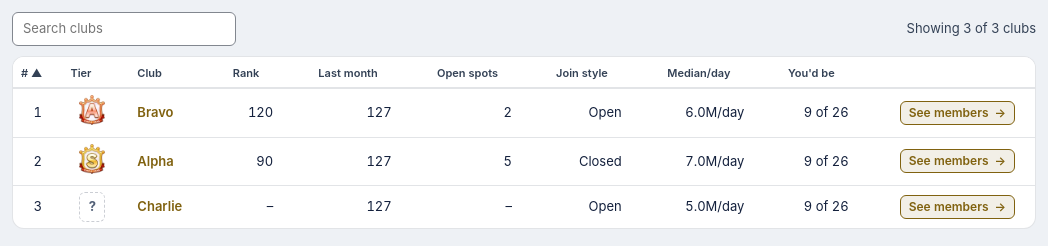
Test: ResultsTable › searches by name
In the search field named "Search clubs by name": coordinates (124, 29) [12,12,236,46], type "ar"
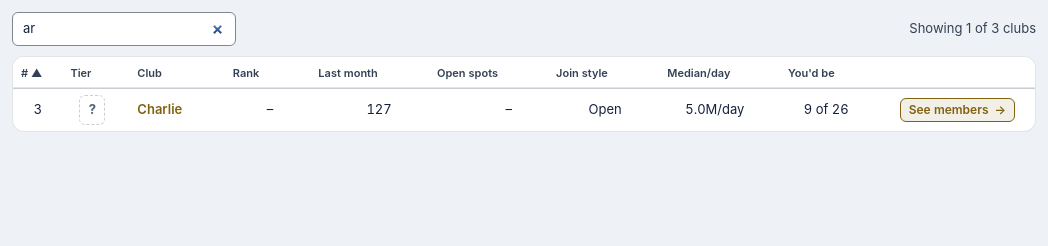
Expected: the text "Showing 1 of 3 clubs" is shown, [909,19,1036,38]
Replace the text in the search field named "Search clubs by name" with "zzz": coordinates (124, 29) [12,12,236,46]
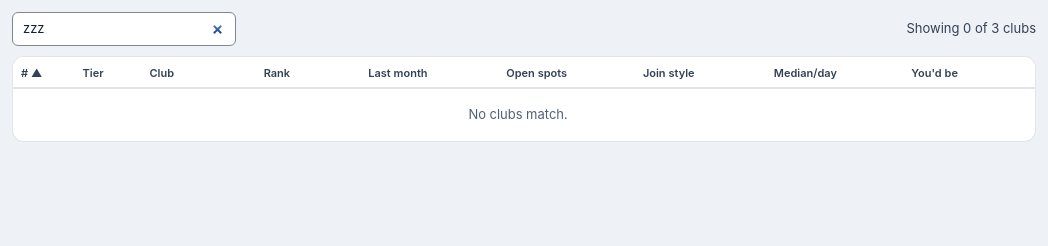
Expected: the text "No clubs match." is shown, [13,88,1035,140]
